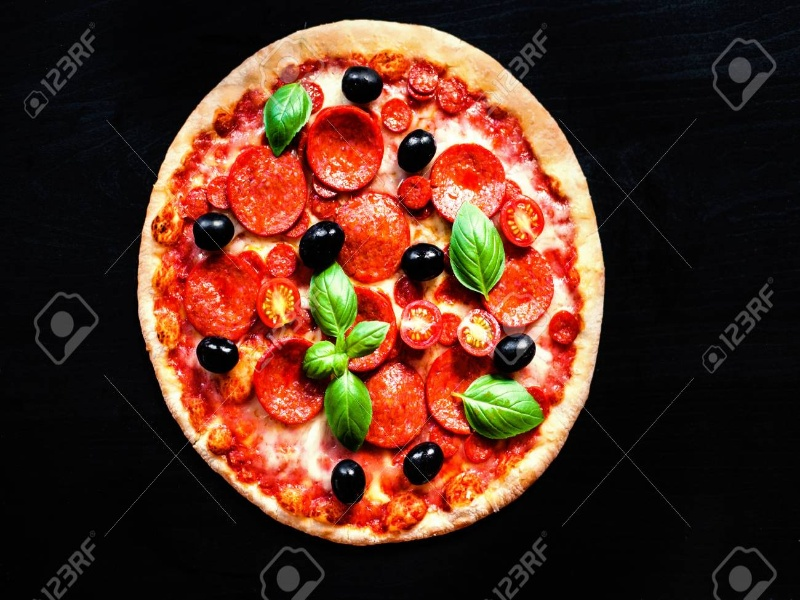olive noir: (294, 218, 345, 272), (326, 459, 373, 510), (191, 208, 237, 259), (182, 335, 243, 372), (393, 127, 440, 173), (399, 443, 449, 485), (493, 329, 537, 376), (399, 240, 445, 282), (342, 64, 385, 104)
pepperonis: (223, 146, 322, 234), (297, 101, 387, 194), (350, 357, 437, 453), (173, 256, 273, 338), (249, 335, 331, 430), (475, 244, 554, 331), (254, 341, 323, 430), (426, 146, 511, 217)
